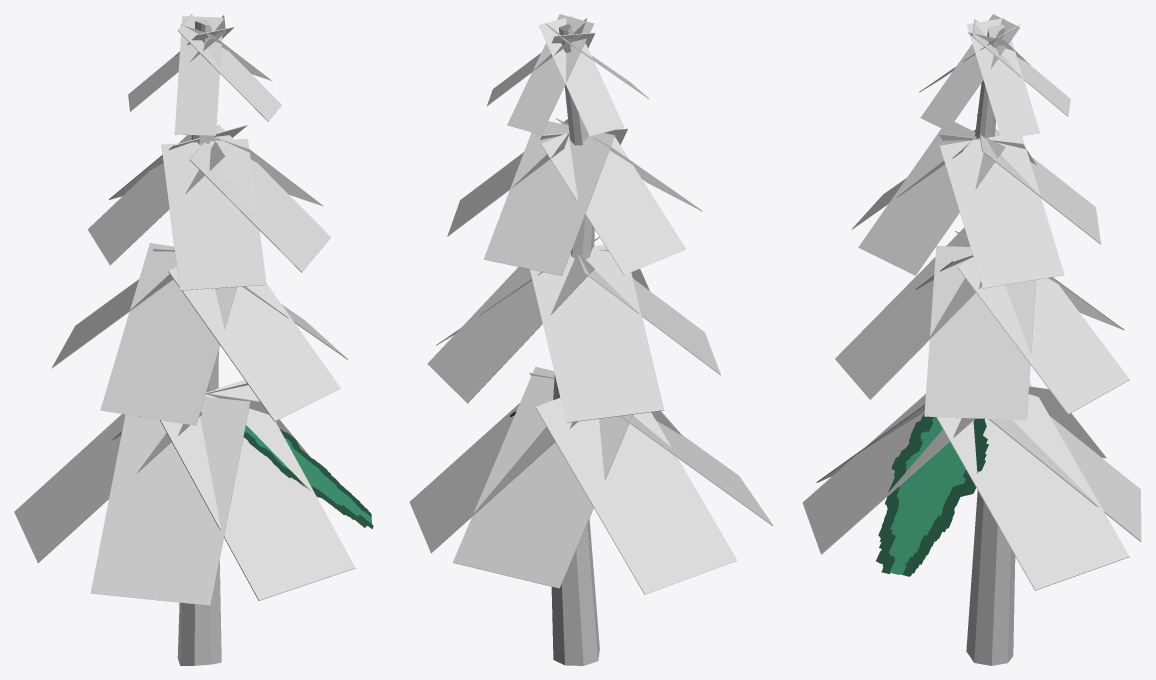
Rendered from Tree4.fbx.
3 renders of one model, left to right at view 1: azimuth 30°, elevation 25°; view 2: azimuth 150°, elevation 25°; view 3: azimuth 270°, elevation 25°, orthographic.
Visible parts, largest first — view 1: Plane.001, Plane, Plane.009, Plane.015, Plane.008, Plane.002, Plane.014, Plane.011, Plane.020, Cylinder, Plane.005, Plane.019 (+5 smaller); view 2: Plane.002, Plane.003, Plane.010, Plane.012, Plane.006, Plane.011, Plane.004, Cylinder, Plane.016, Plane.017, Plane.009, Plane.001 (+3 smaller); view 3: Plane.004, Plane.007, Plane.013, Plane.006, Plane.005, Plane.014, Cylinder, Plane, Plane.008, Plane.003, Plane.018, Plane.019 (+5 smaller).
Boxes of the visible parts, left/top/right/bottom form: Plane.001: left=90, top=397, right=250, bottom=605; Plane: left=160, top=379, right=355, bottom=600; Plane.009: left=100, top=243, right=237, bottom=425; Plane.015: left=161, top=138, right=266, bottom=290; Plane.008: left=168, top=267, right=340, bottom=421; Plane.002: left=14, top=411, right=202, bottom=562; Plane.014: left=189, top=125, right=331, bottom=272; Plane.011: left=87, top=135, right=225, bottom=265; Plane.020: left=174, top=16, right=223, bottom=135; Cylinder: left=177, top=20, right=221, bottom=665; Plane.005: left=243, top=425, right=373, bottom=528; Plane.019: left=177, top=14, right=282, bottom=121; Plane.002: left=535, top=398, right=737, bottom=594; Plane.003: left=453, top=366, right=632, bottom=588; Plane.010: left=530, top=244, right=664, bottom=422; Plane.012: left=484, top=121, right=614, bottom=275; Plane.006: left=427, top=254, right=594, bottom=403; Plane.011: left=541, top=132, right=685, bottom=275; Plane.004: left=409, top=403, right=577, bottom=553; Cylinder: left=551, top=24, right=599, bottom=665; Plane.016: left=538, top=16, right=624, bottom=136; Plane.017: left=507, top=14, right=593, bottom=134; Plane.009: left=577, top=254, right=720, bottom=375; Plane.001: left=620, top=415, right=773, bottom=526; Plane.004: left=936, top=381, right=1129, bottom=590; Plane.007: left=924, top=246, right=1036, bottom=420; Plane.013: left=940, top=135, right=1064, bottom=288; Plane.006: left=957, top=258, right=1129, bottom=414; Plane.005: left=875, top=414, right=988, bottom=576; Plane.014: left=858, top=122, right=1005, bottom=275; Cylinder: left=966, top=24, right=1015, bottom=665; Plane: left=802, top=394, right=975, bottom=554; Plane.008: left=835, top=227, right=982, bottom=399; Plane.003: left=988, top=416, right=1141, bottom=541; Plane.018: left=966, top=18, right=1039, bottom=139; Plane.019: left=920, top=14, right=1019, bottom=131.
Bounding box in the file's own units: 714 × 1360 × 661.
